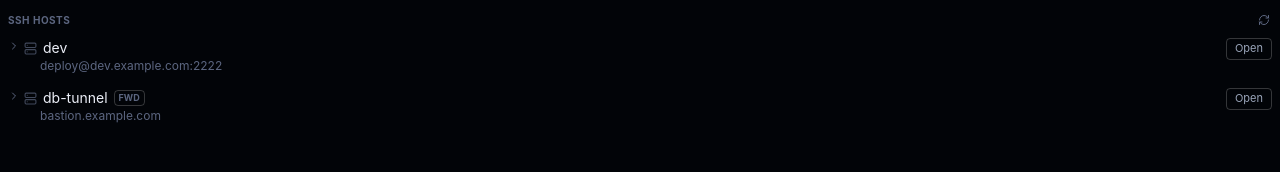
it: SSHHostsSection › expands a host row and resolves directives when clicked
Click the button "dev deploy@dev.example.com:2222" at (131, 66), box [8,38,1218,74]
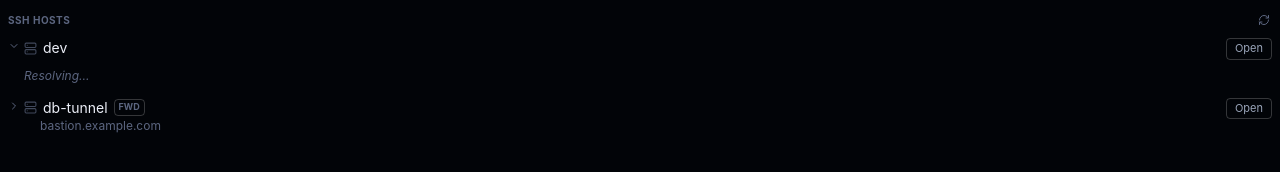
Expected: the button "dev" is expanded, [8,38,1218,58]
